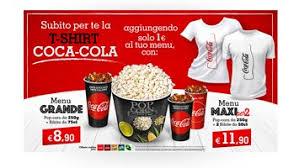coke: (78, 70, 115, 129)
